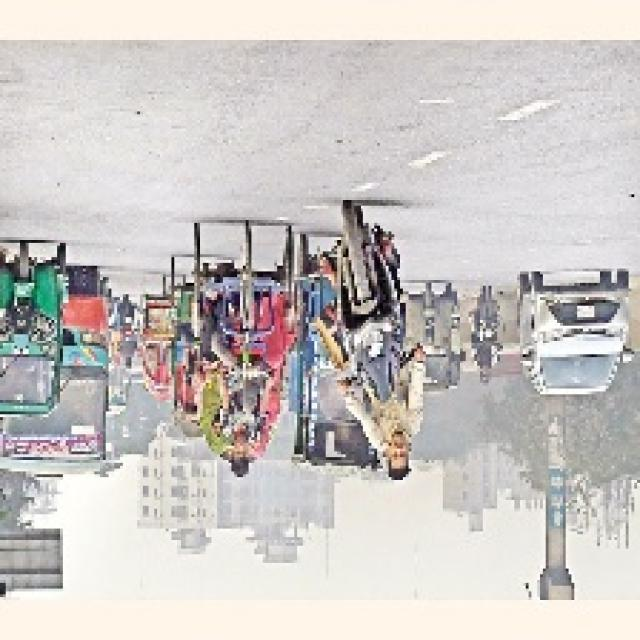bike: (318, 196, 425, 385), (468, 281, 505, 362)
car: (510, 263, 636, 408)
rickshaw: (190, 222, 292, 461)
